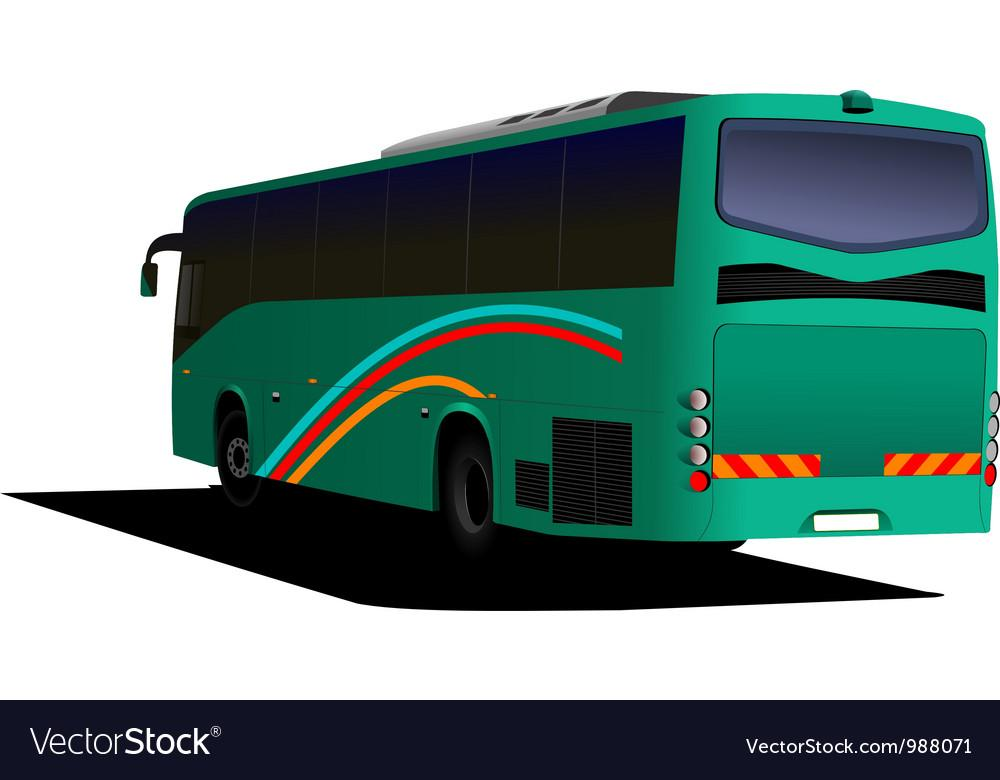bus: (140, 85, 999, 560)
